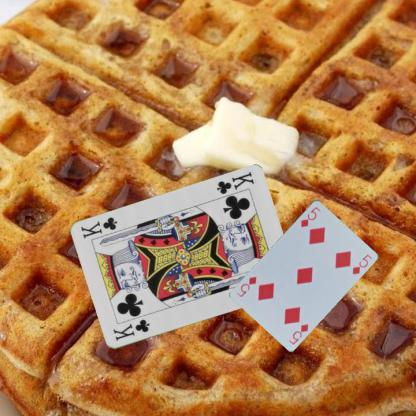5d: (286, 321, 310, 346), (298, 204, 322, 228)
Kc: (214, 169, 255, 196), (110, 316, 151, 342)
